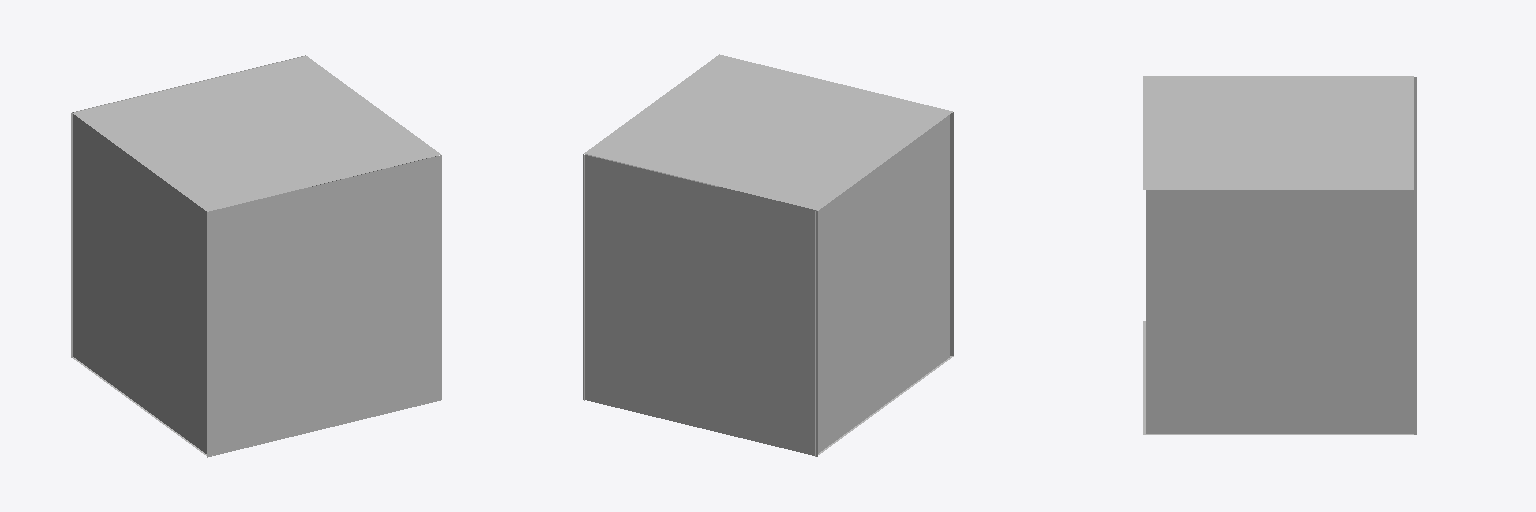
File: quarto.obj
The picture shows the model from 3 angles: view 1: azimuth 30°, elevation 25°; view 2: azimuth 150°, elevation 25°; view 3: azimuth 270°, elevation 25°; orthographic projection.
Parts seen in each view (by area): view 1: Plane.002, Plane.005, Plane.001, Plane.003; view 2: Plane.003, Plane.005, Plane.001, Plane.002; view 3: Plane.004, Plane.001, Plane.
Part boxes in pixels (left/top/right/bottom): Plane.002: left=207, top=155, right=441, bottom=457; Plane.005: left=73, top=112, right=206, bottom=453; Plane.001: left=73, top=56, right=440, bottom=211; Plane.003: left=71, top=55, right=305, bottom=357; Plane.003: left=583, top=154, right=817, bottom=456; Plane.005: left=815, top=115, right=949, bottom=456; Plane.001: left=584, top=54, right=952, bottom=210; Plane.002: left=719, top=112, right=953, bottom=355; Plane.004: left=1146, top=190, right=1416, bottom=434; Plane.001: left=1143, top=76, right=1413, bottom=189; Plane: left=1143, top=321, right=1413, bottom=434.
Size of the model in its own units: 2 by 2 by 2.03.